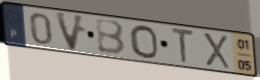0: (27, 11, 56, 46)
B: (94, 18, 128, 57)
O: (128, 24, 161, 60)
T: (170, 26, 196, 66)
V: (53, 10, 87, 53)
X: (201, 31, 232, 71)
